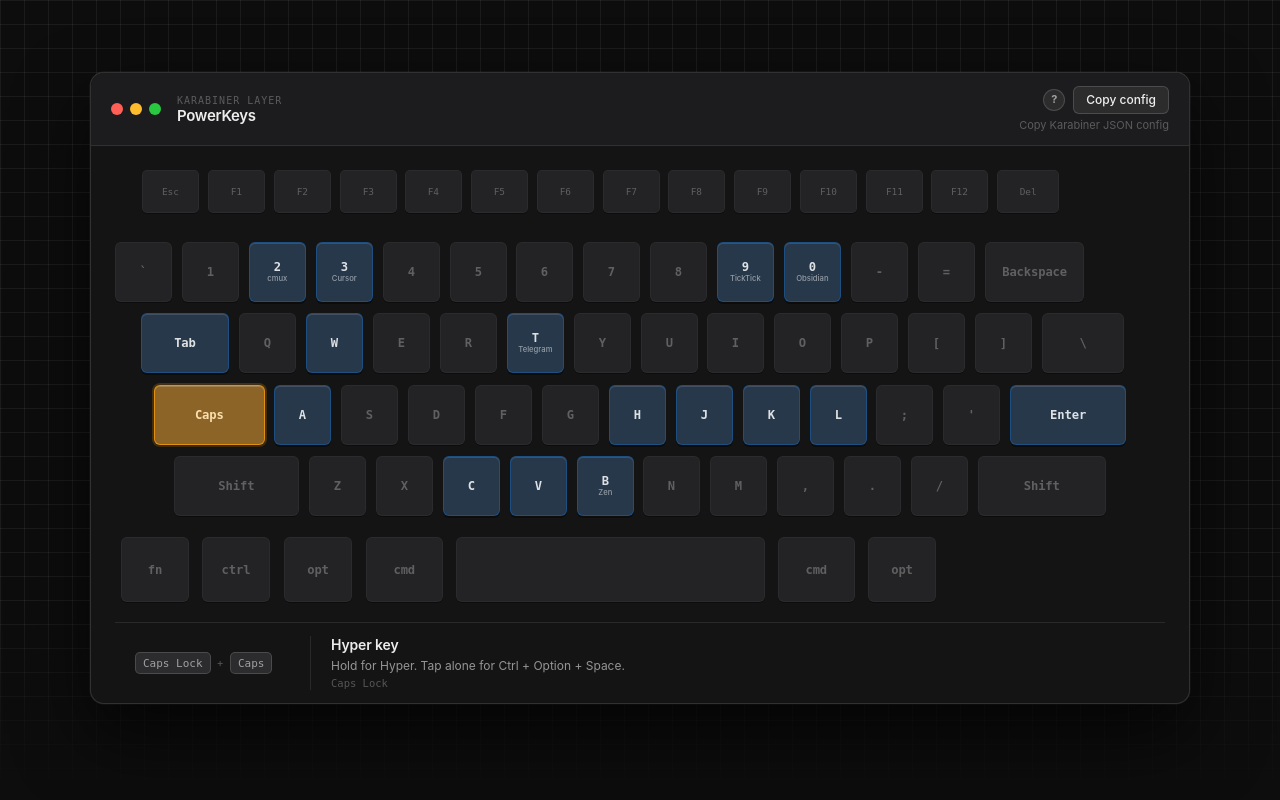
Scenario: App › copies the Karabiner config to the clipboard
Click the button "Copy config". click: (1121, 100)
box: top-left (1073, 86), bottom-right (1169, 114)
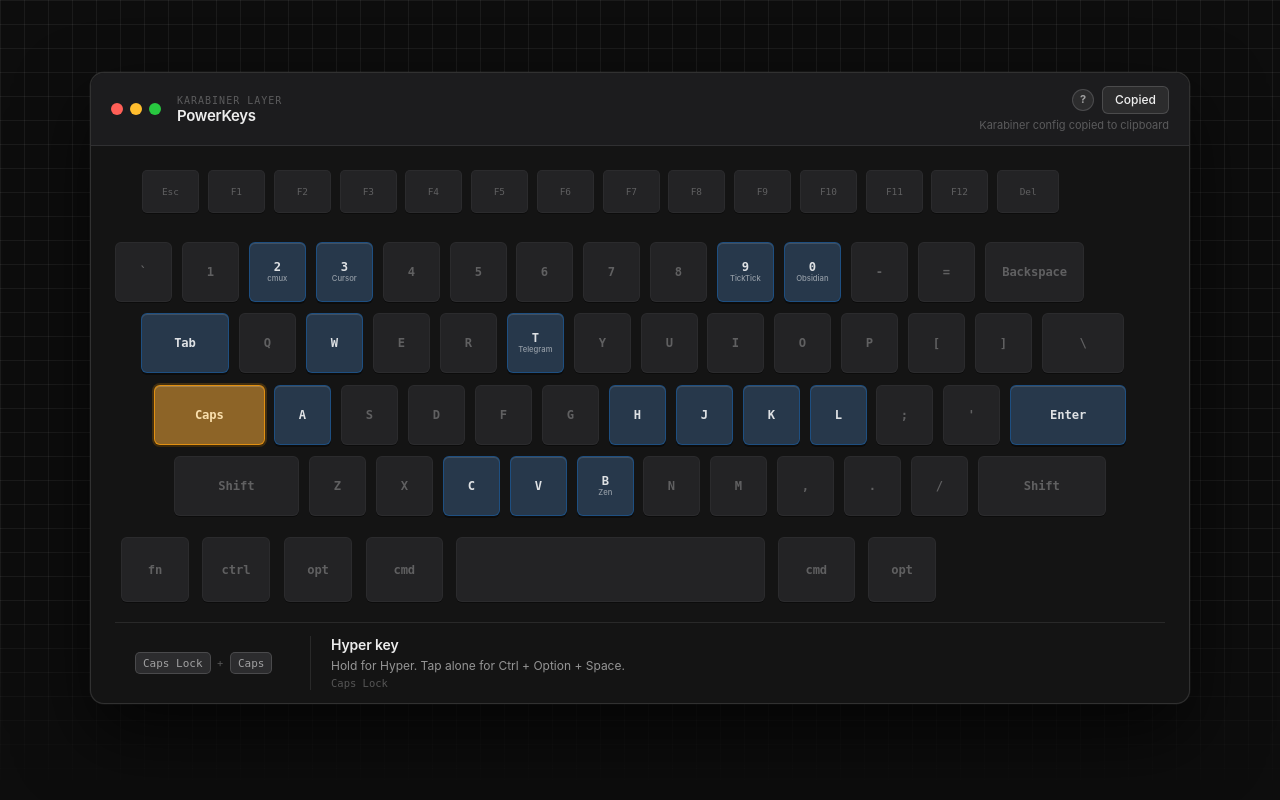
Expected: the text "Karabiner config copied to clipboard" is shown, top-left (979, 118), bottom-right (1169, 132)
